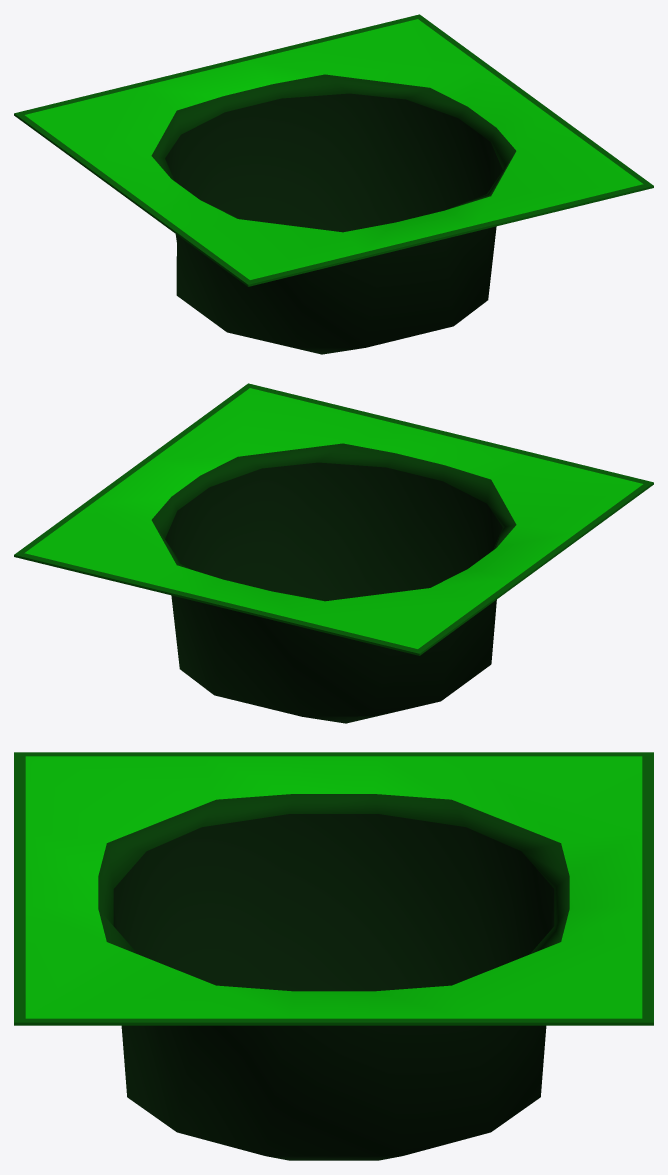
Rendered from Hoyo 1.fbx.
3 renders of one model, top to bottom at view 1: azimuth 30°, elevation 25°; view 2: azimuth 150°, elevation 25°; view 3: azimuth 270°, elevation 25°, orthographic. The views are drawn at different scales.
Parts seen in each view (by area): view 1: pasted__pCube3; view 2: pasted__pCube3; view 3: pasted__pCube3.
Part boxes in pixels (bbox=[...]): pasted__pCube3: bbox=[14, 14, 653, 354]; pasted__pCube3: bbox=[14, 383, 653, 723]; pasted__pCube3: bbox=[14, 752, 653, 1160].
Bounding box in the file's own units: 200 × 87.78 × 200.
